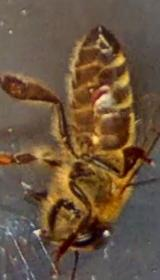varroa_mite: (87, 74, 133, 116)
